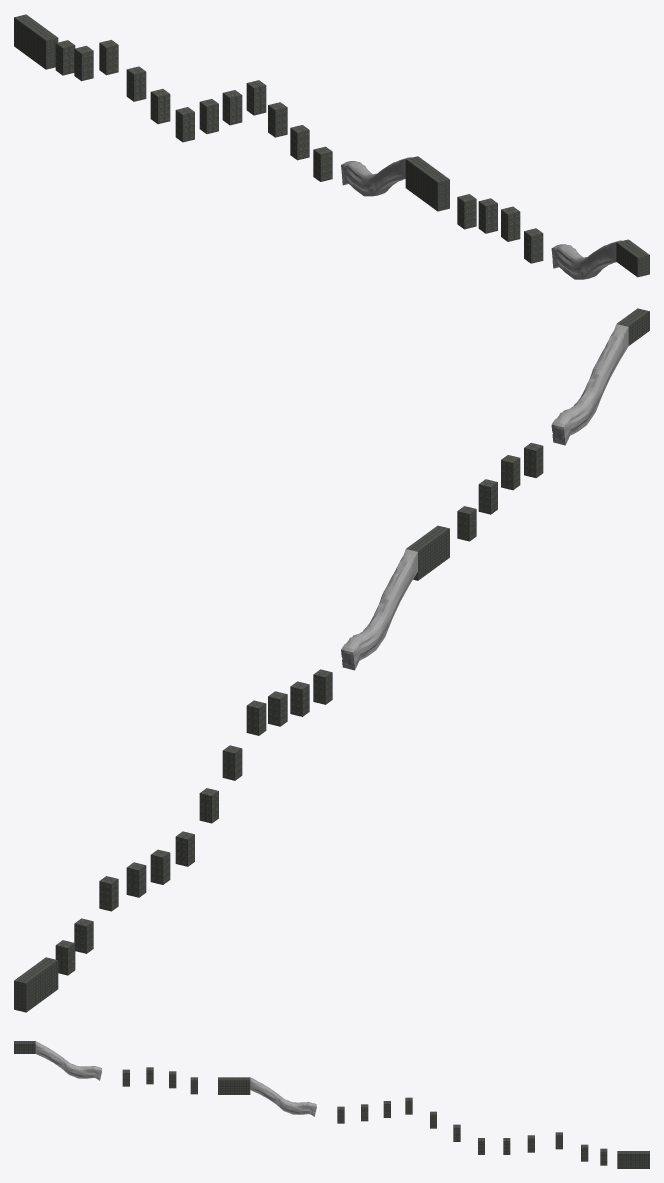
Rendered from 2过山车.fbx.
3 views of the same model, one above another, from view 1: azimuth 30°, elevation 25°; view 2: azimuth 150°, elevation 25°; view 3: azimuth 270°, elevation 25° (orthographic). The views are drawn at different scales.
Visible parts, largest first — view 1: Plane.127, Plane.124, Cube.692, Cube.702, Cube.689, Cube.694, Cube.697, Cube.668, Cube.690, Cube.691, Cube.699, Cube.666 (+6 smaller); view 2: Plane.127, Plane.124; view 3: Plane.127, Plane.124.
Part boxes in pixels (bbox=[...]): Plane.127: bbox=[551, 240, 625, 279]; Plane.124: bbox=[341, 157, 412, 196]; Cube.692: bbox=[246, 80, 266, 115]; Cube.702: bbox=[126, 66, 146, 101]; Cube.689: bbox=[222, 90, 242, 125]; Cube.694: bbox=[150, 89, 170, 124]; Cube.697: bbox=[55, 40, 75, 75]; Cube.668: bbox=[313, 146, 332, 181]; Cube.690: bbox=[290, 125, 309, 160]; Cube.691: bbox=[268, 102, 287, 137]; Cube.699: bbox=[524, 228, 543, 263]; Cube.666: bbox=[478, 198, 497, 233]; Plane.127: bbox=[551, 324, 628, 445]; Plane.124: bbox=[341, 549, 417, 670]; Plane.127: bbox=[35, 1041, 101, 1080]; Plane.124: bbox=[250, 1077, 316, 1116].
Bounding box in the file's own units: 1006 × 15200 × 70200.
